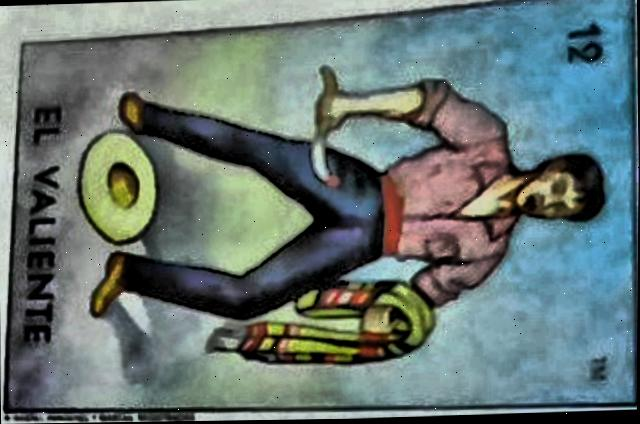El Valiente: (0, 15, 639, 424)
